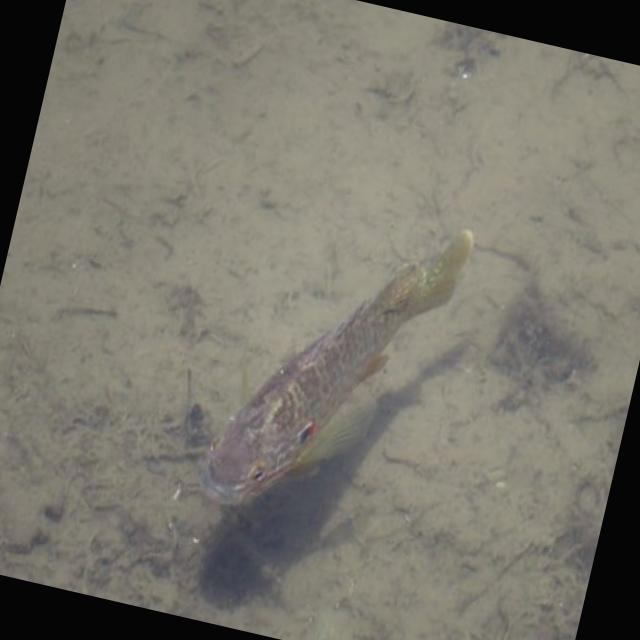Gunes Levregi: (190, 172, 478, 550)
